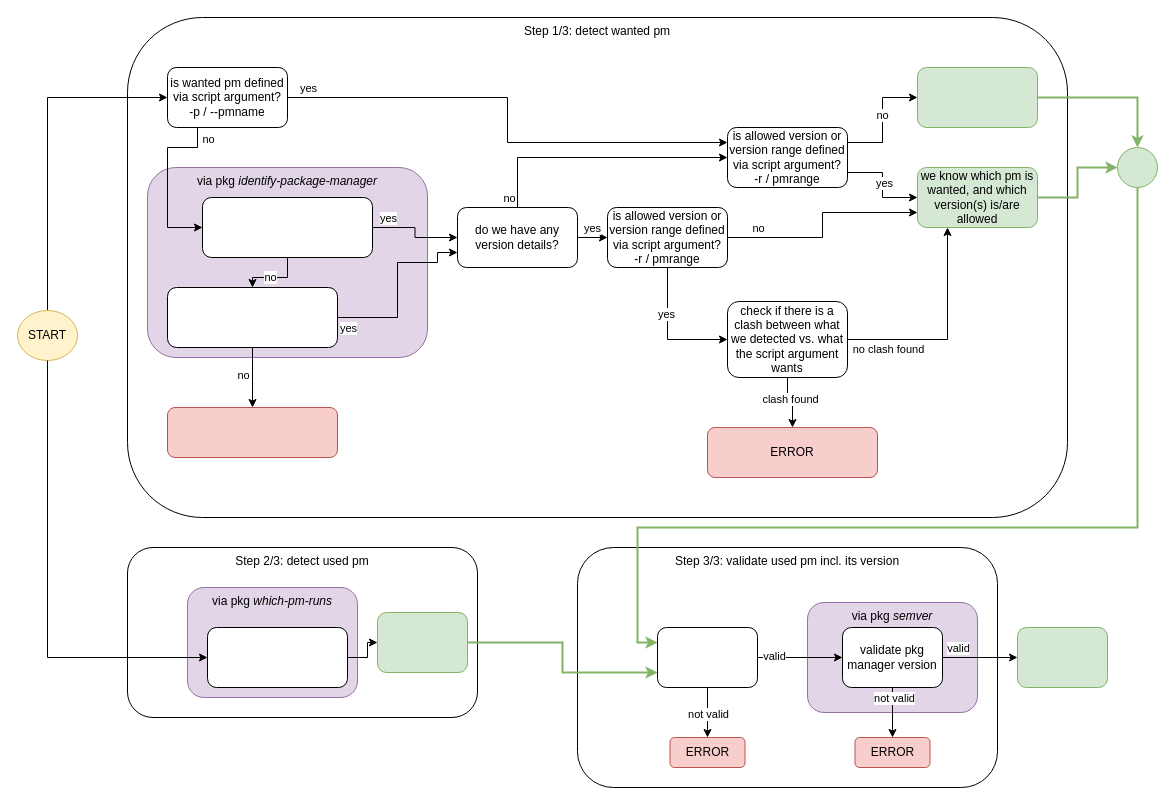
This 1175x805 diagram has some shape labels left out. The shapes that lost their labels are listed below. From the top down, each one's centre as x and y in pixels, then its label:
At [977,97]: "we know which pm is wanted, but not any version number!".
At [1137,167]: "OR".
At [287,227]: "is wanted pm defined via package.json packageManager prop?".
At [252,317]: "is project already installed, and can therefore the used pm be derived?".
At [252,432]: "ERROR we do not know which pm is wanted".
At [277,657]: "detect which pm is being used".
At [422,642]: "we know which pm is being used".
At [707,657]: "validate pkg manager".
At [1062,657]: "FINISH".
